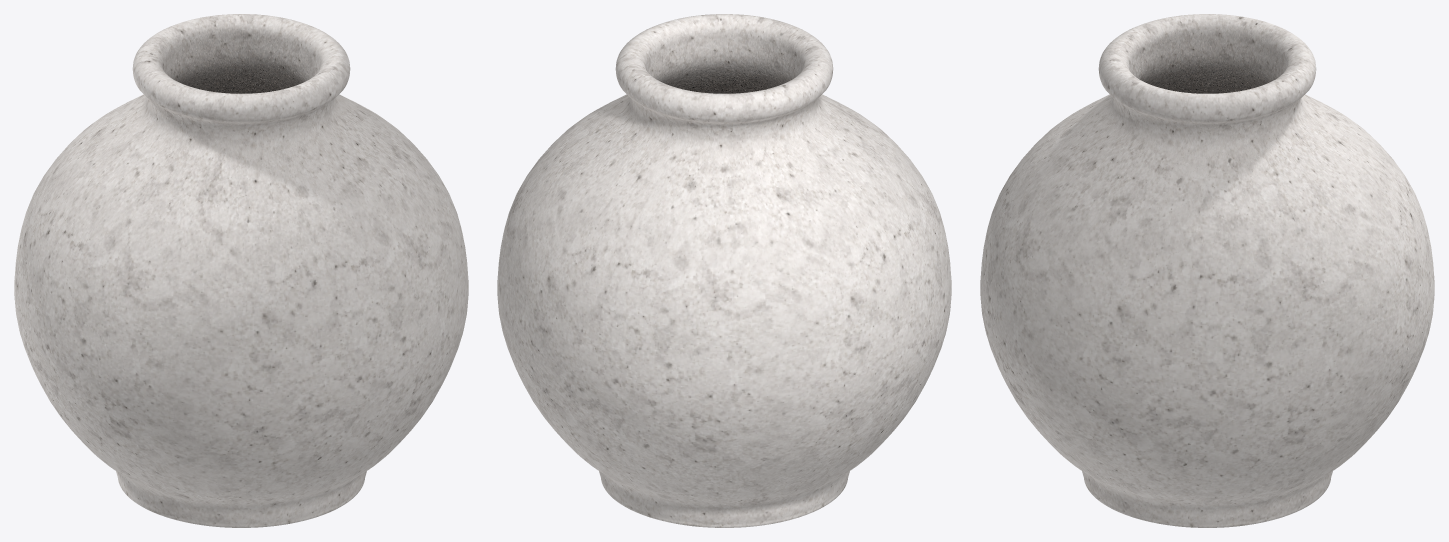
Rendered from vase-large-white.glb.
The picture shows the model from 3 angles, left to right: view 1: azimuth 30°, elevation 25°; view 2: azimuth 150°, elevation 25°; view 3: azimuth 270°, elevation 25°; orthographic projection.
Visible parts, largest first — view 1: vase-large-white; view 2: vase-large-white; view 3: vase-large-white.
Part boxes in pixels (left/top/right/bottom): vase-large-white: left=14, top=14, right=468, bottom=527; vase-large-white: left=497, top=14, right=951, bottom=527; vase-large-white: left=980, top=14, right=1434, bottom=527.
Size of the model in its own units: 0.0322 by 0.033 by 0.0322.
Materials: 1 (1 with a texture image).
